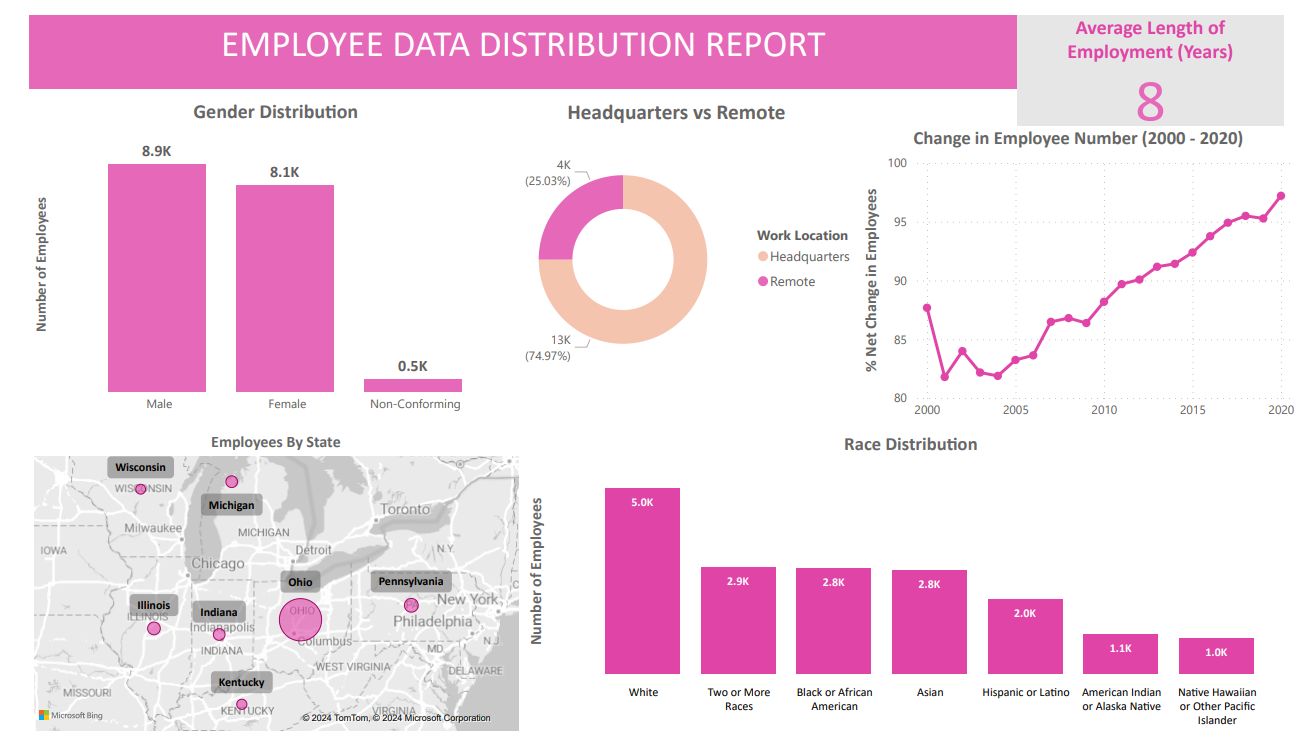

Layout of this report page (visuals, bound fields, positions):
{"tool":"powerbi","page":{"name":"Page 1","canvas":[1280,720],"ordinal":0},"visuals":[{"type":"textbox","box":[9.9,0,988.7,72.5],"z":0},{"type":"card","title":"Average Length of Employment (Years)","fields":{"Values":["Sum(avg_length_employment.avg_length_employment)"]},"box":[997.9,0,267.5,110.9],"z":1},{"type":"columnChart","title":"Gender Distribution","fields":{"Y":["Sum(gender breakdown.count)"],"Category":["gender breakdown.gender"]},"box":[9.7,83.6,494.1,322.9],"z":2},{"type":"donutChart","title":"Headquarters vs Remote","fields":{"Y":["Sum(location.count)"],"Category":["location.location"]},"box":[464.9,83.6,385.2,295.7],"z":3},{"type":"lineChart","title":"Change in Employee Number (2000 - 2020)","fields":{"Category":["employee_change.year"],"Y":["Sum(employee_change.net_change_percent)"]},"box":[839.4,110.9,440.6,302.5],"z":4},{"type":"map","title":"Employees By State","fields":{"Size":["Sum(locationndstate.count)"],"Category":["locationndstate.location_state"]},"box":[10,417,494,303],"z":5},{"type":"clusteredColumnChart","title":"Race Distribution","fields":{"Y":["Sum(race.count)"],"Category":["race.race"]},"box":[503.8,417.3,776.2,302.5],"z":6}]}

Visuals, with their boxes in screenshot pixels (x1, y1, x2, y2), scaled from the page's 1280x720 canvas onto the 1308x749 screenshot:
textbox: x1=10, y1=0, x2=1020, y2=75
"Average Length of Employment (Years)" card: x1=1020, y1=0, x2=1293, y2=115
"Gender Distribution" columnChart: x1=10, y1=87, x2=515, y2=423
"Headquarters vs Remote" donutChart: x1=475, y1=87, x2=869, y2=395
"Change in Employee Number (2000 - 2020)" lineChart: x1=858, y1=115, x2=1307, y2=430
"Employees By State" map: x1=10, y1=434, x2=515, y2=748
"Race Distribution" clusteredColumnChart: x1=515, y1=434, x2=1307, y2=748
